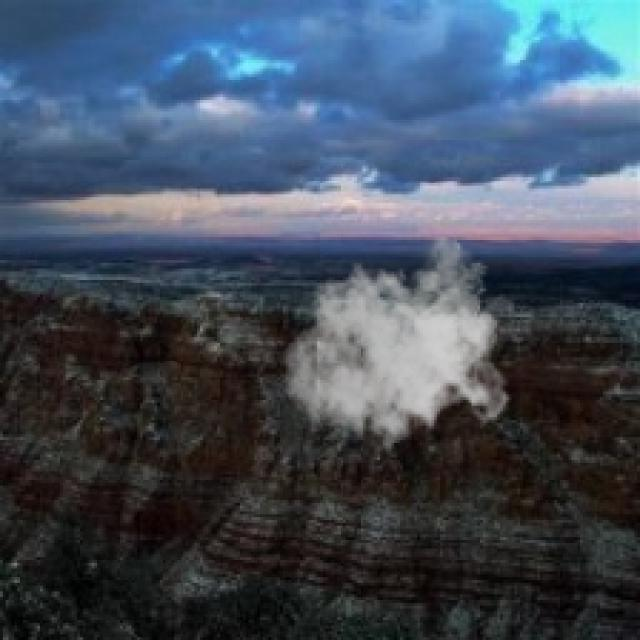smoke: (283, 237, 514, 463)
